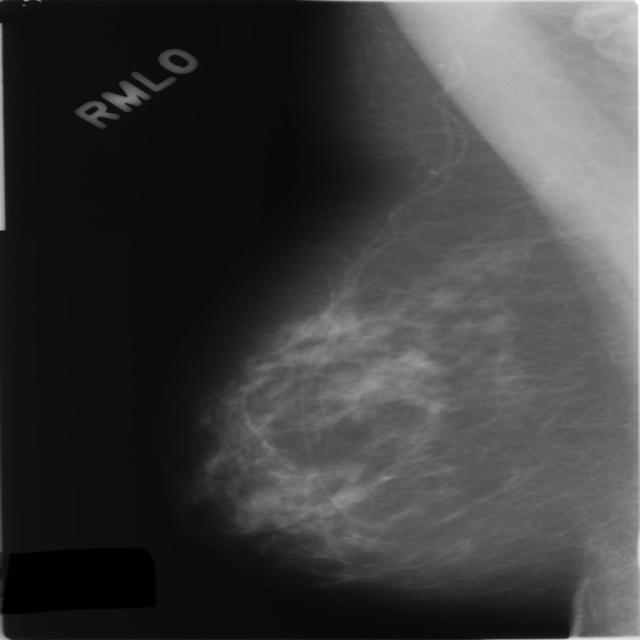tumour: (327, 484, 363, 507)
